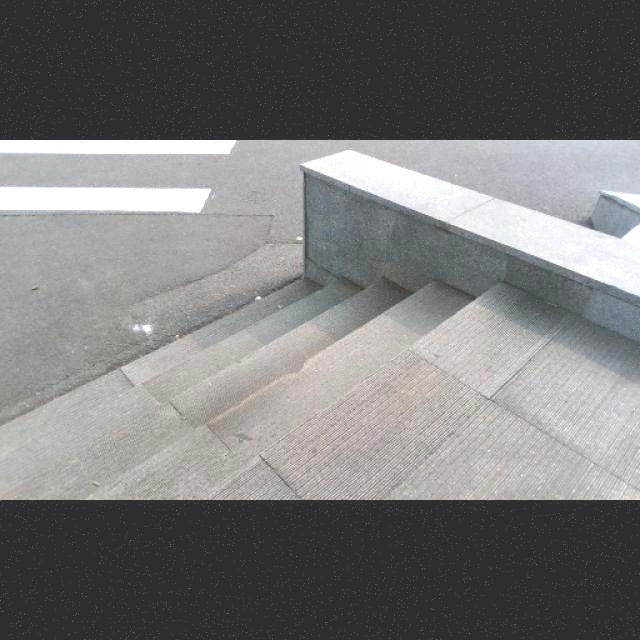stair: (46, 294, 504, 475)
